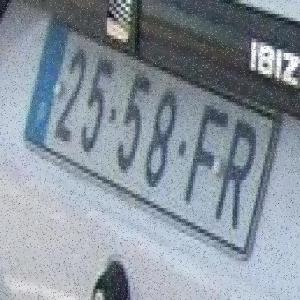Plate: (24, 15, 283, 266)
